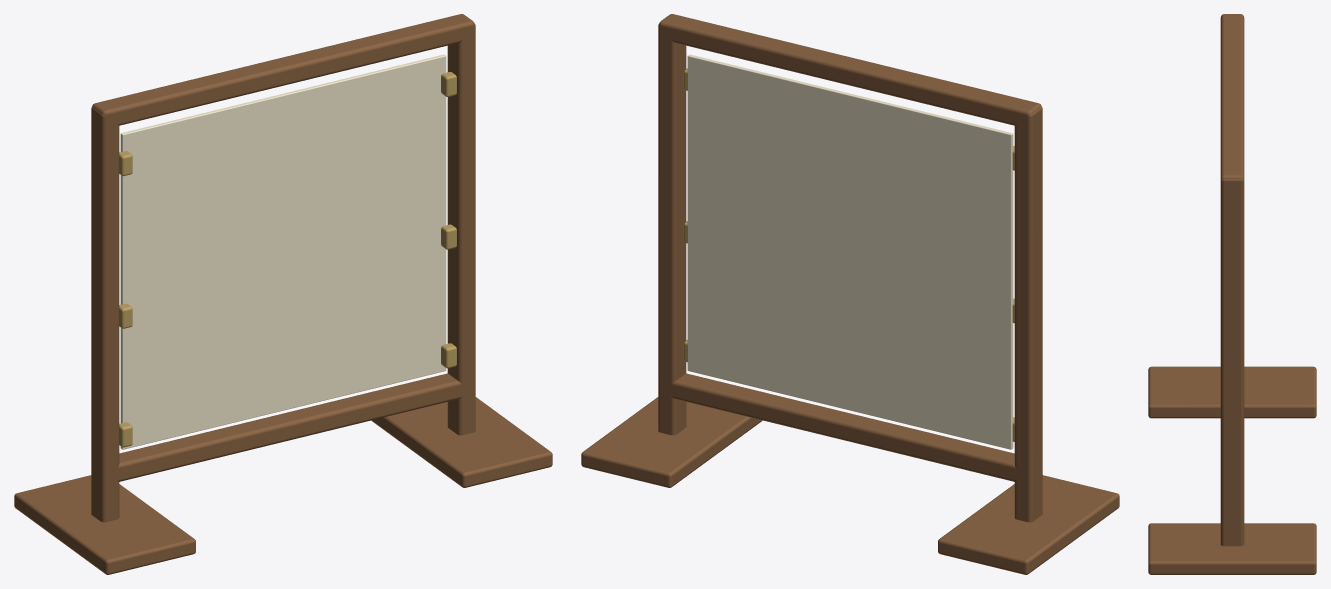
Rendered from fantasy-cartographers-map-printing-guild-map-mounting--ca7162f0__32263.glb.
3 views of the same model, side by side, from view 1: azimuth 30°, elevation 25°; view 2: azimuth 150°, elevation 25°; view 3: azimuth 270°, elevation 25° (orthographic). The views are drawn at different scales.
Visible parts, largest first — view 1: map-mounting-frame; view 2: map-mounting-frame; view 3: map-mounting-frame.
Boxes of the visible parts, <box> form: map-mounting-frame: <box>14,14,552,574</box>; map-mounting-frame: <box>581,14,1119,574</box>; map-mounting-frame: <box>1148,14,1316,574</box>.
Bounding box in the file's own units: 1.38 × 1.26 × 0.5.
